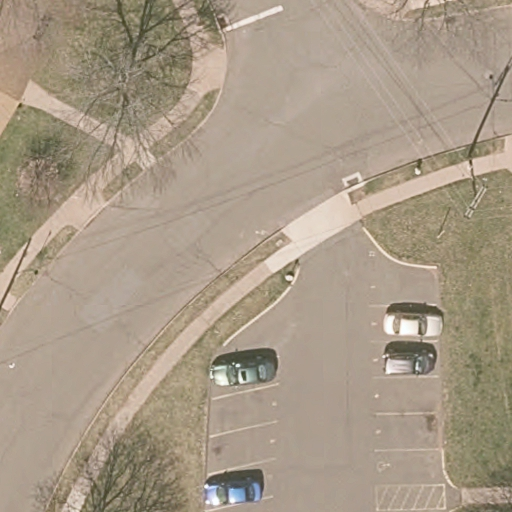DT: (463, 156, 489, 218)
